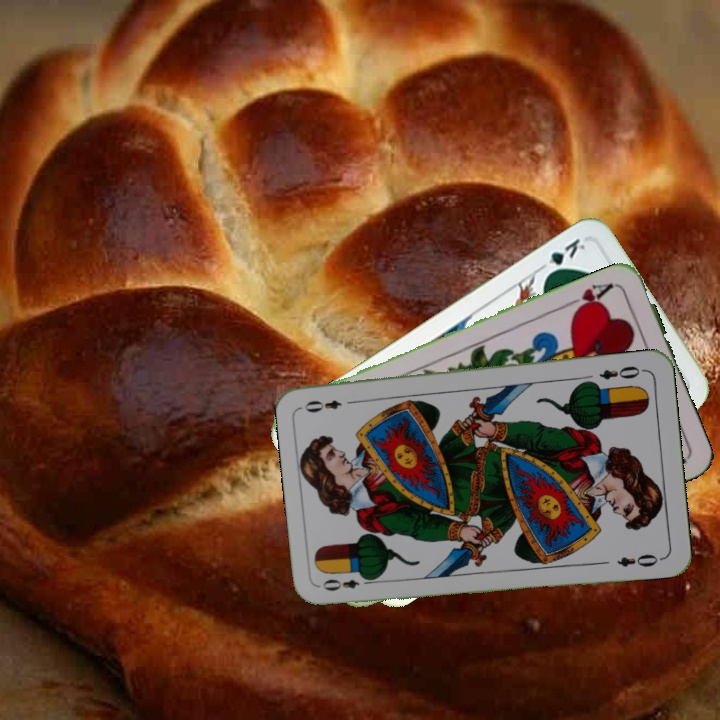EO: (318, 571, 376, 594), (595, 361, 647, 382)
GK: (535, 234, 588, 280)
HA: (562, 279, 619, 317)
